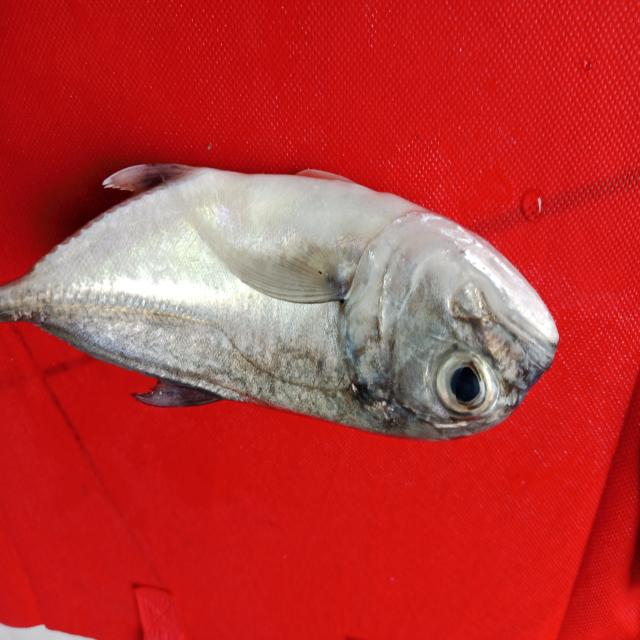ikan: (12, 110, 570, 468)
